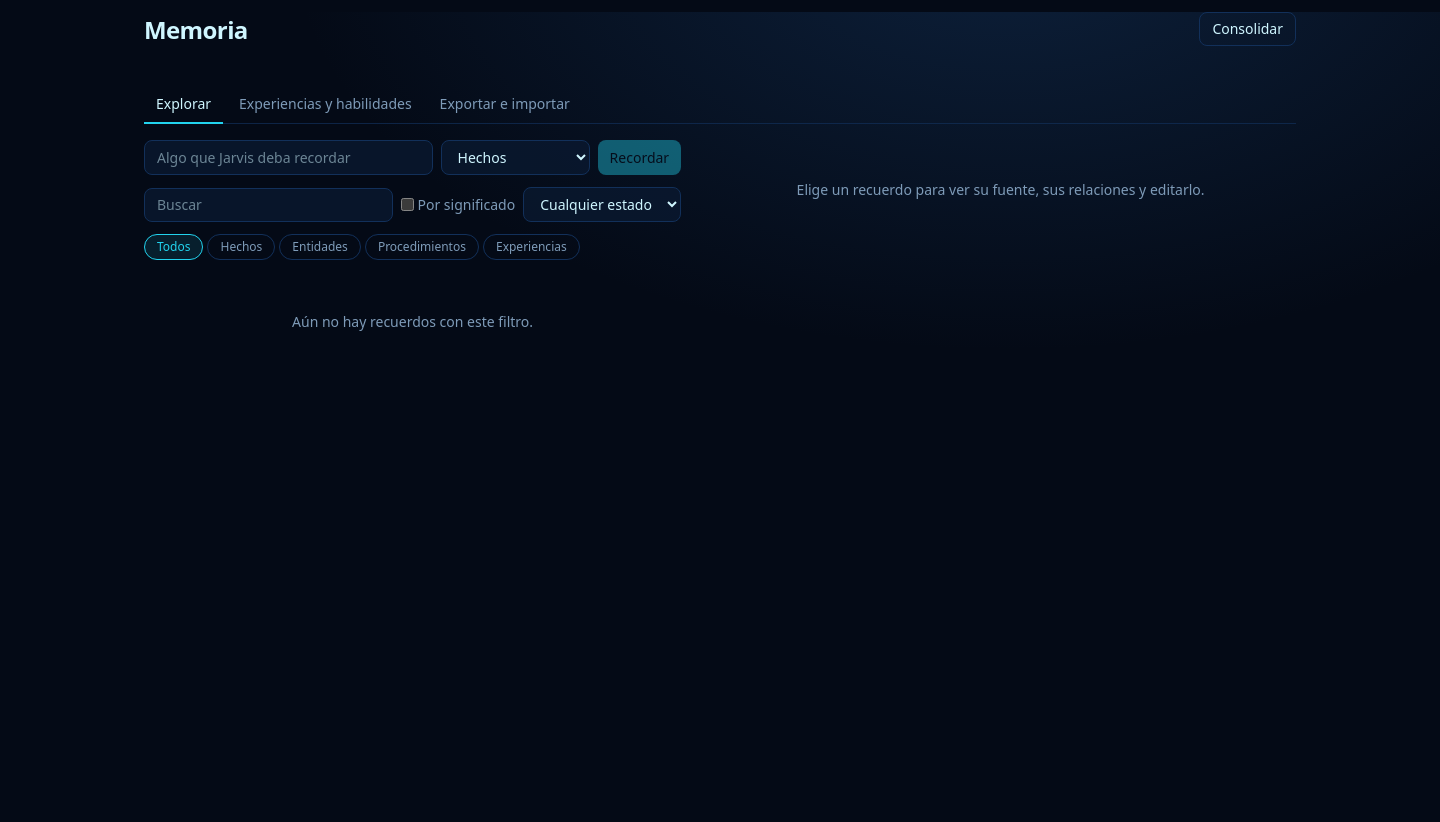
Test: MemoryScreen › añade, abre, edita y olvida un recuerdo
In the field named "Nuevo recuerdo": (288, 158) [144, 140, 433, 175], type "Mi perro se llama Rocky"
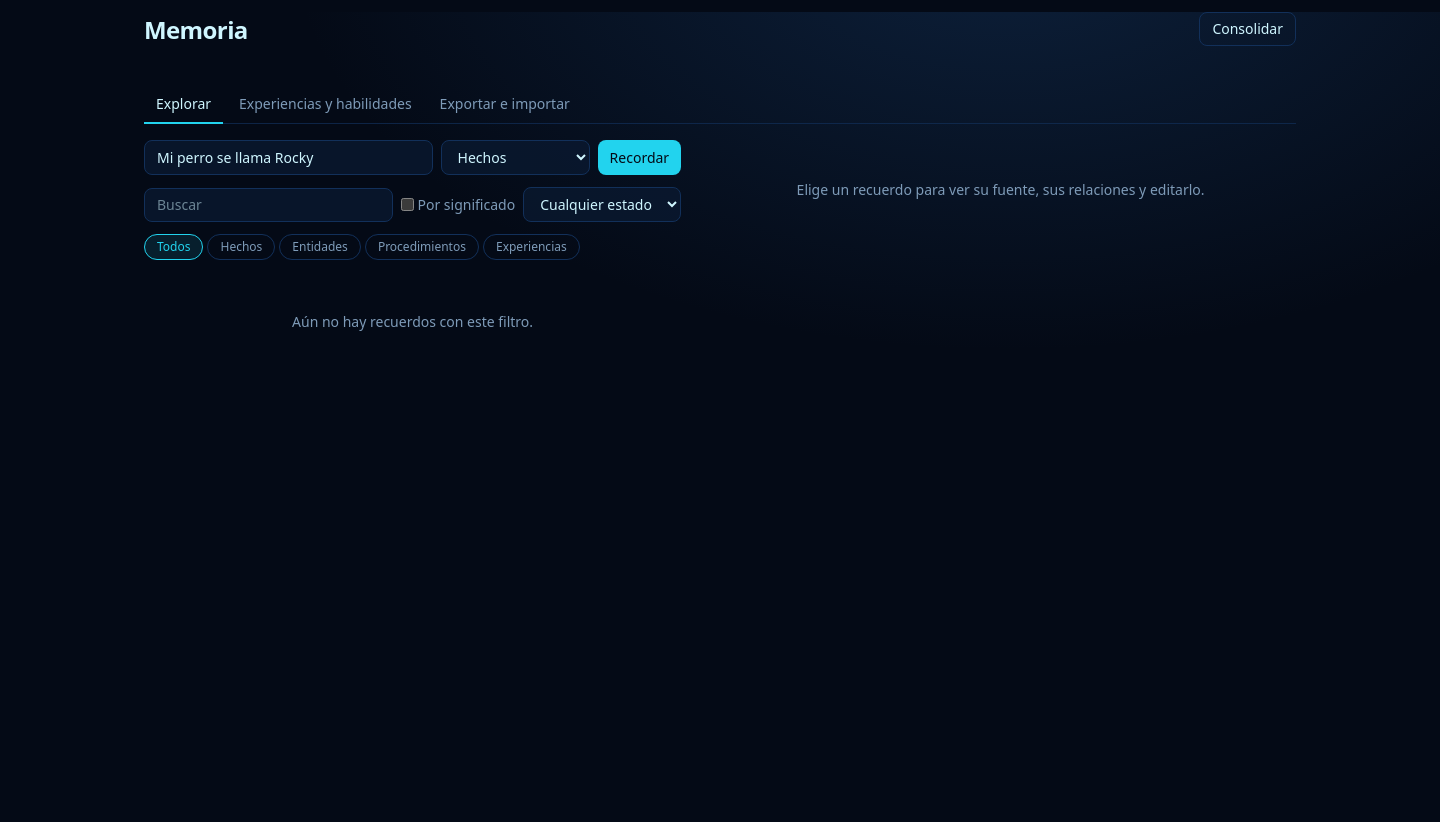
Click the button "Recordar": (639, 158) [598, 140, 681, 175]
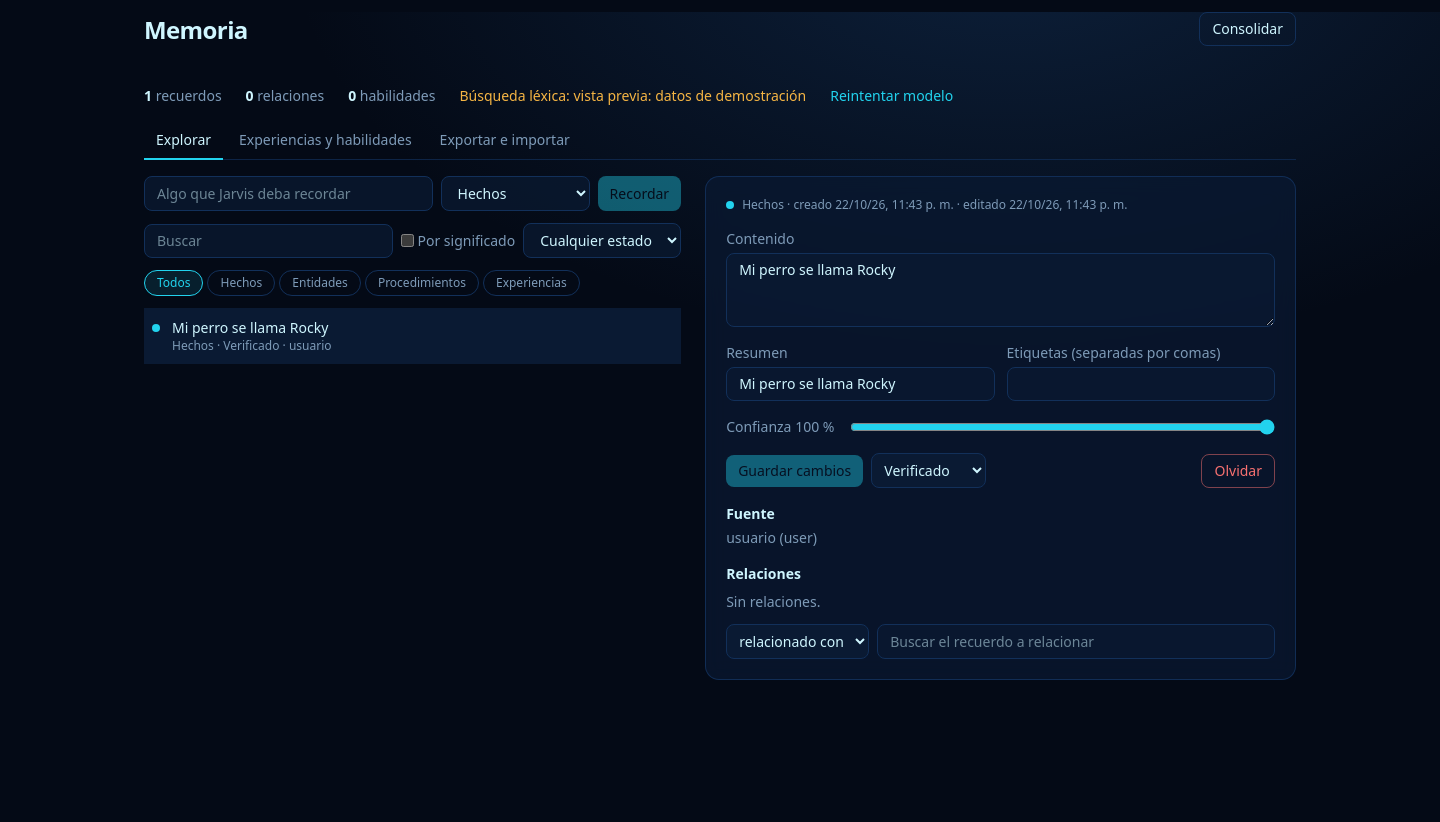
Now the dropdown named "Estado de verificación" shows "Verificado", box [871, 453, 986, 488]
Replace the text in the text box labelled "Contenido" with "Mi perro se llama Toby": (1001, 290) [726, 253, 1275, 327]
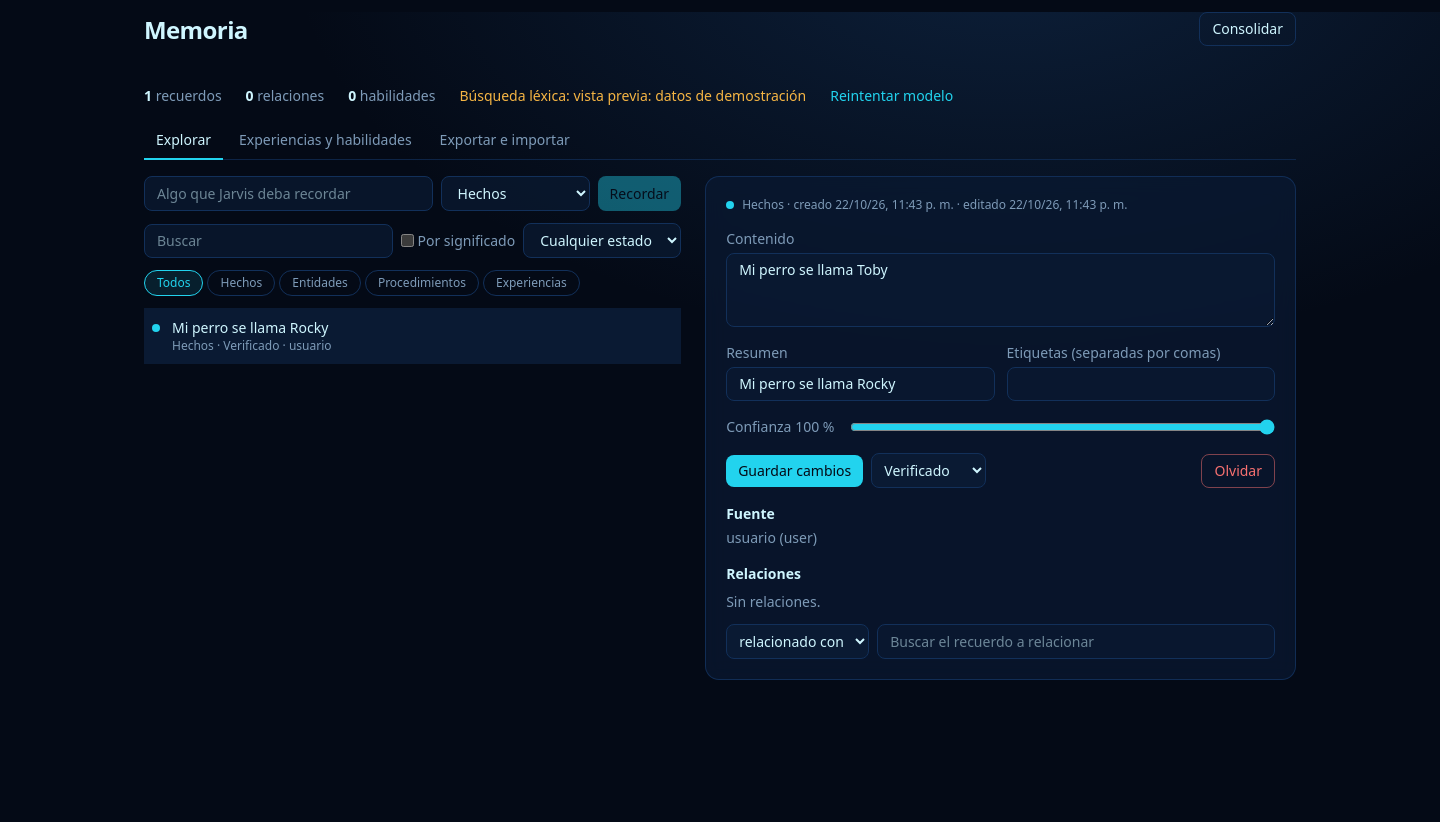
Click the button "Guardar cambios": (795, 470) [726, 454, 863, 486]
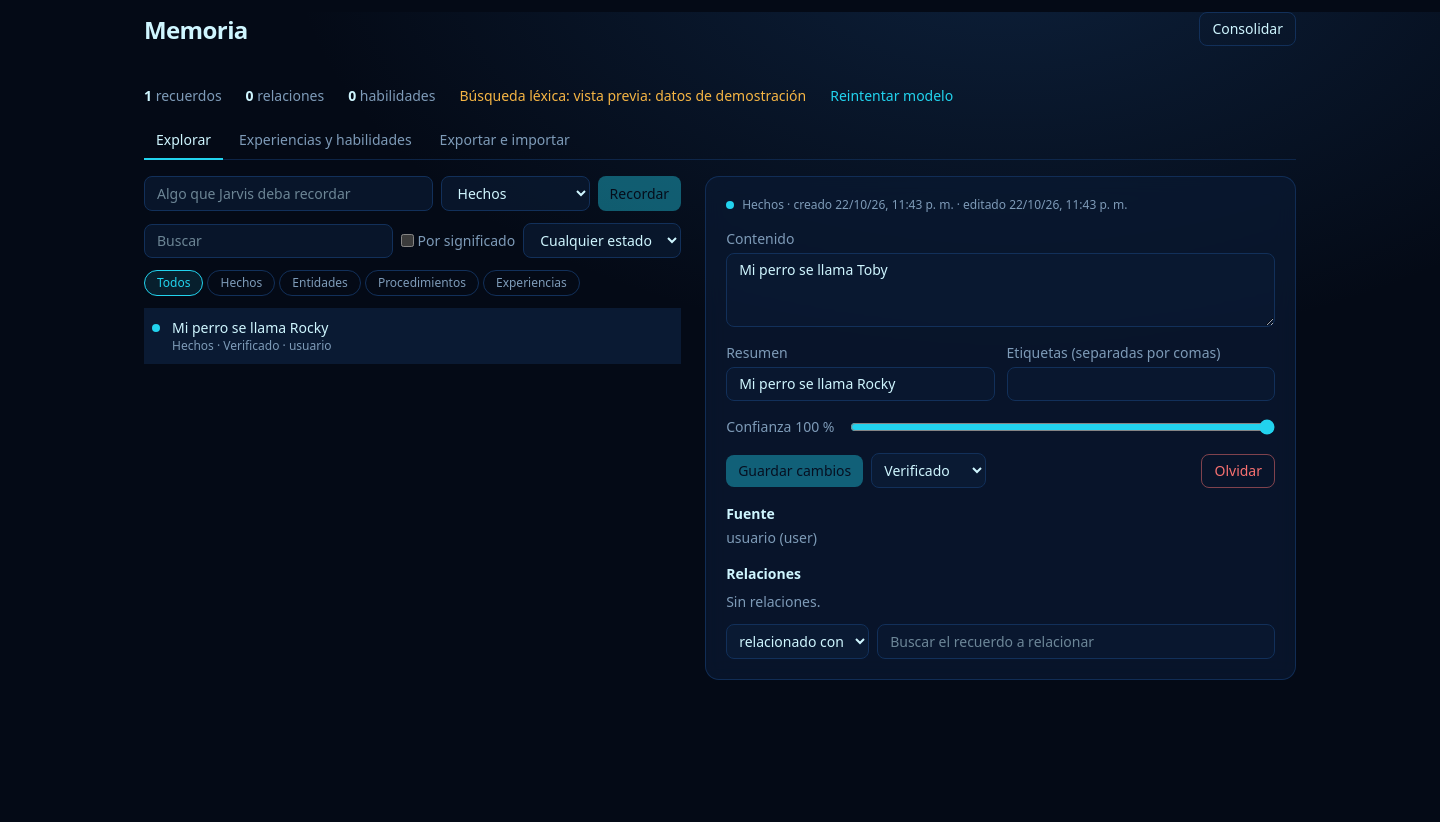
Click the button "Olvidar": (1238, 470) [1202, 454, 1275, 488]
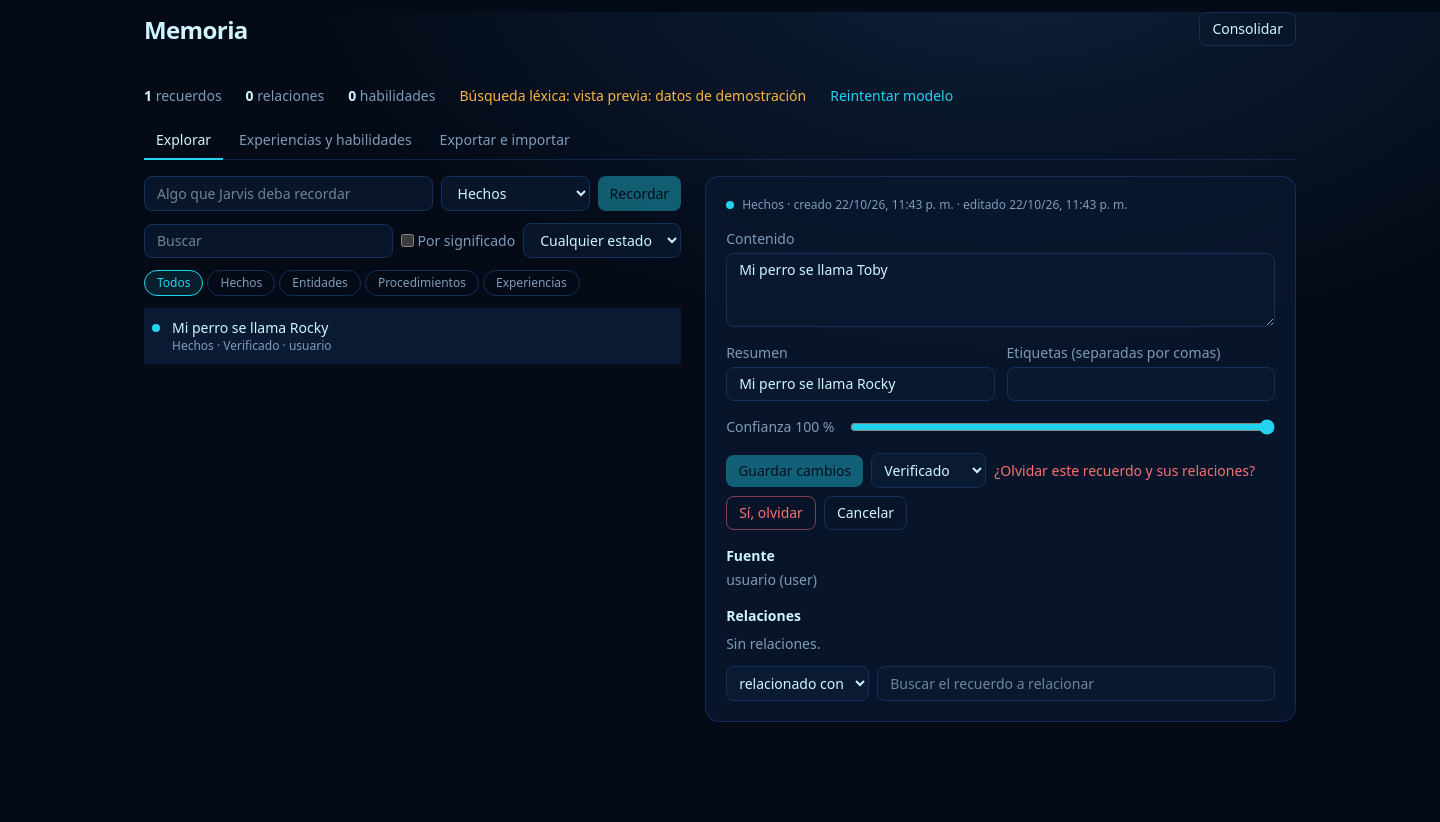
Click the button "Sí, olvidar": (771, 513) [726, 496, 816, 530]
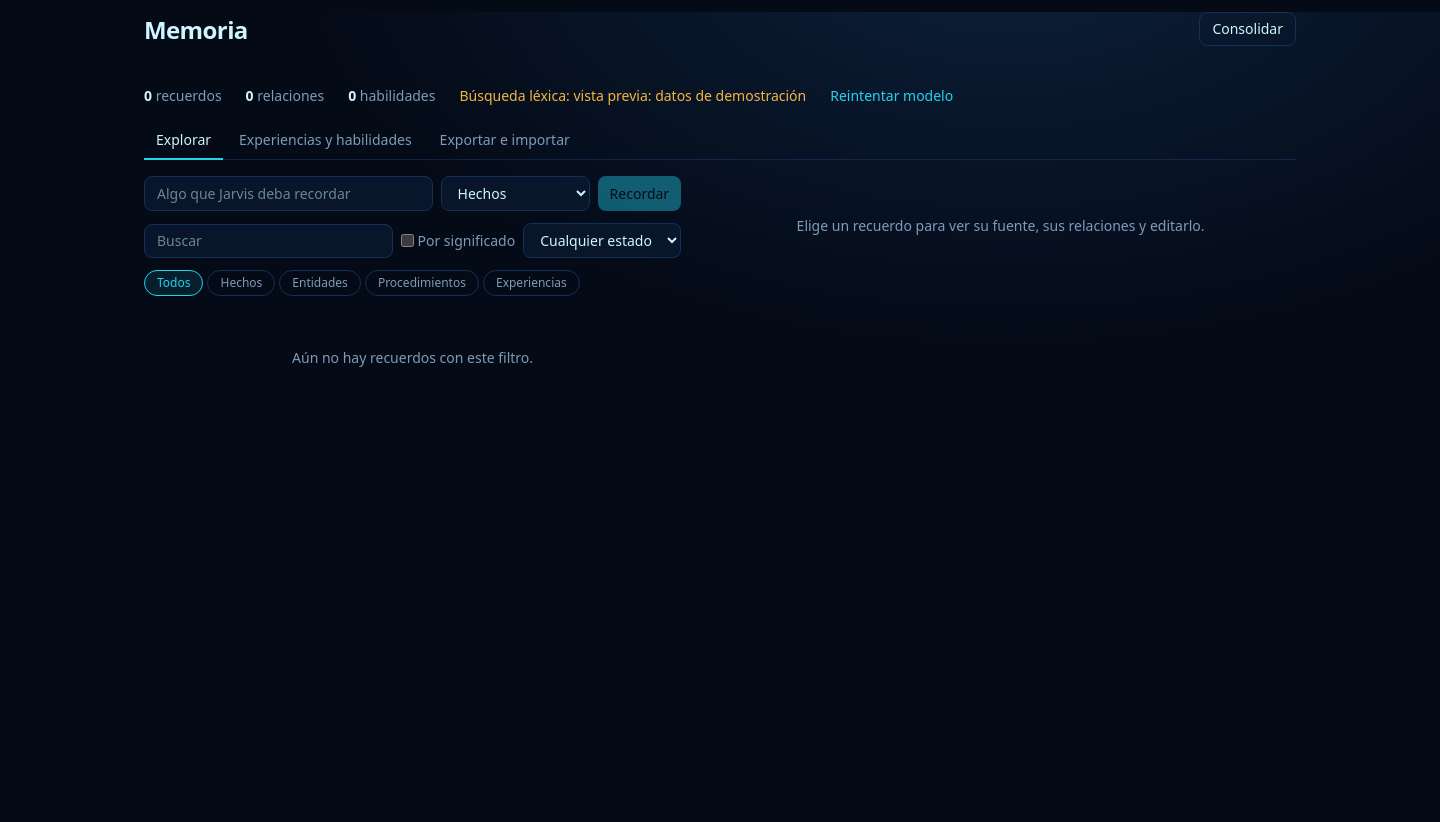
Now the text "Elige un recuerdo" is shown, box [797, 216, 1204, 235]
